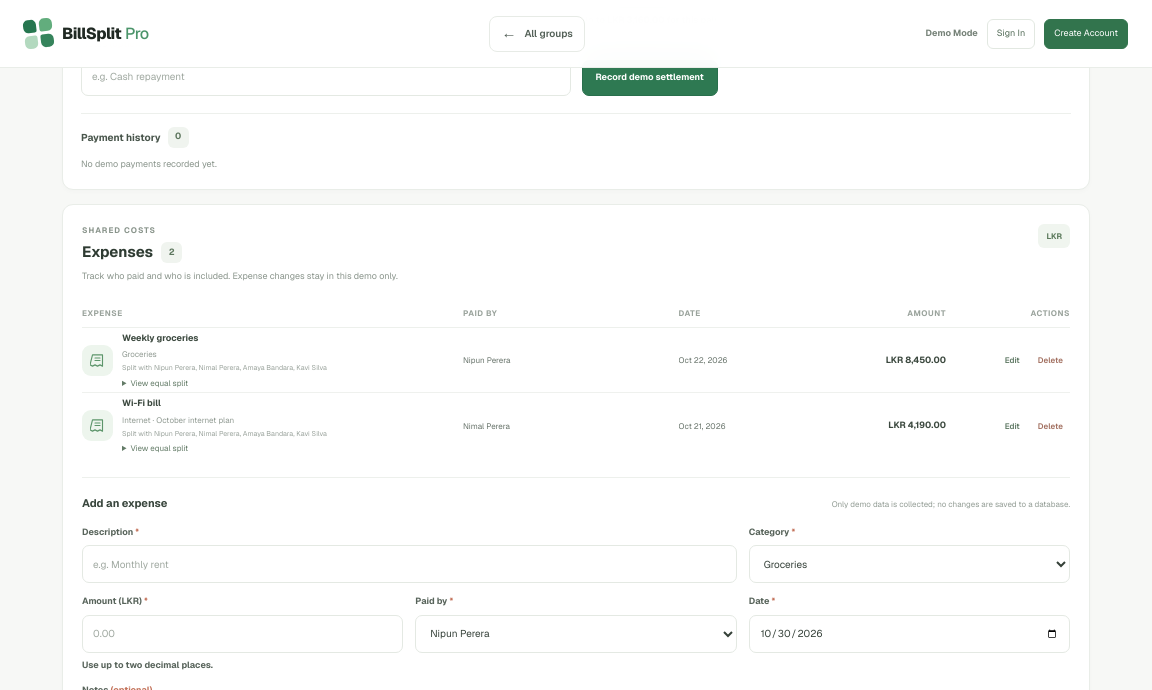
Test: group management screens › edits and confirms deletion of an expense
This screenshot has width=1152, height=690.
(page scrolled)
Click the button with aria-label "Edit Weekly groceries": (1012,360) 998,346 -> 1027,375
(page scrolled)
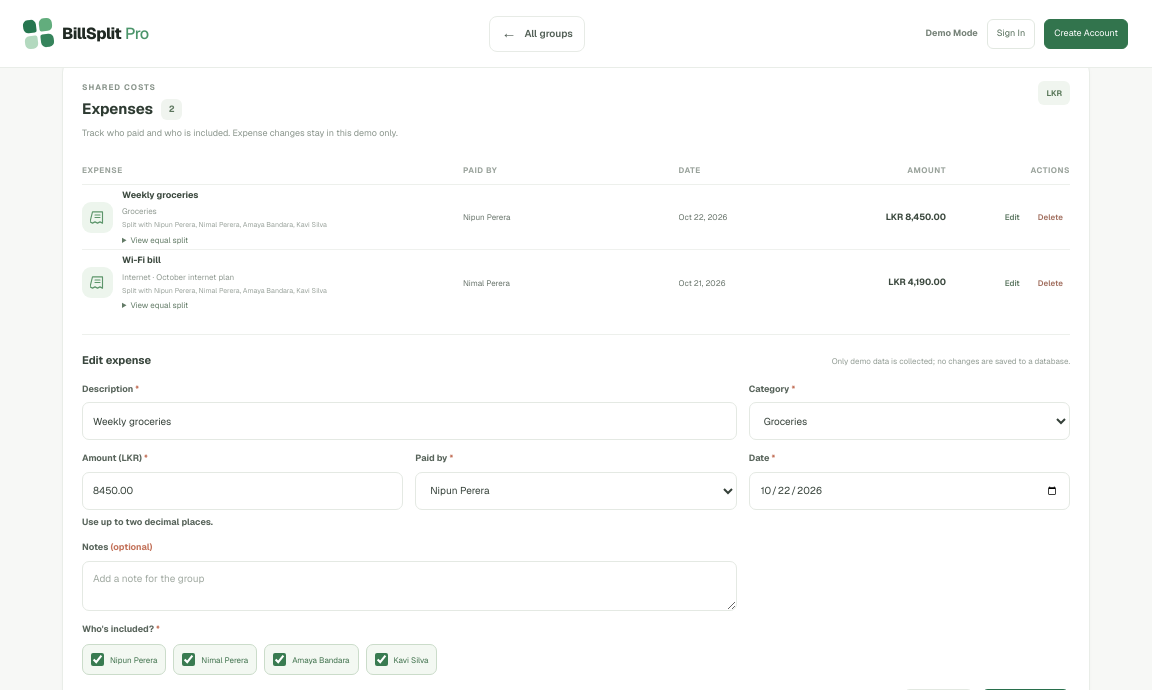
Replace the text in the field labelled "Amount (LKR) * Use up to two decimal places." with "9999.99": (243,491) 82,472 -> 403,510
(page scrolled)
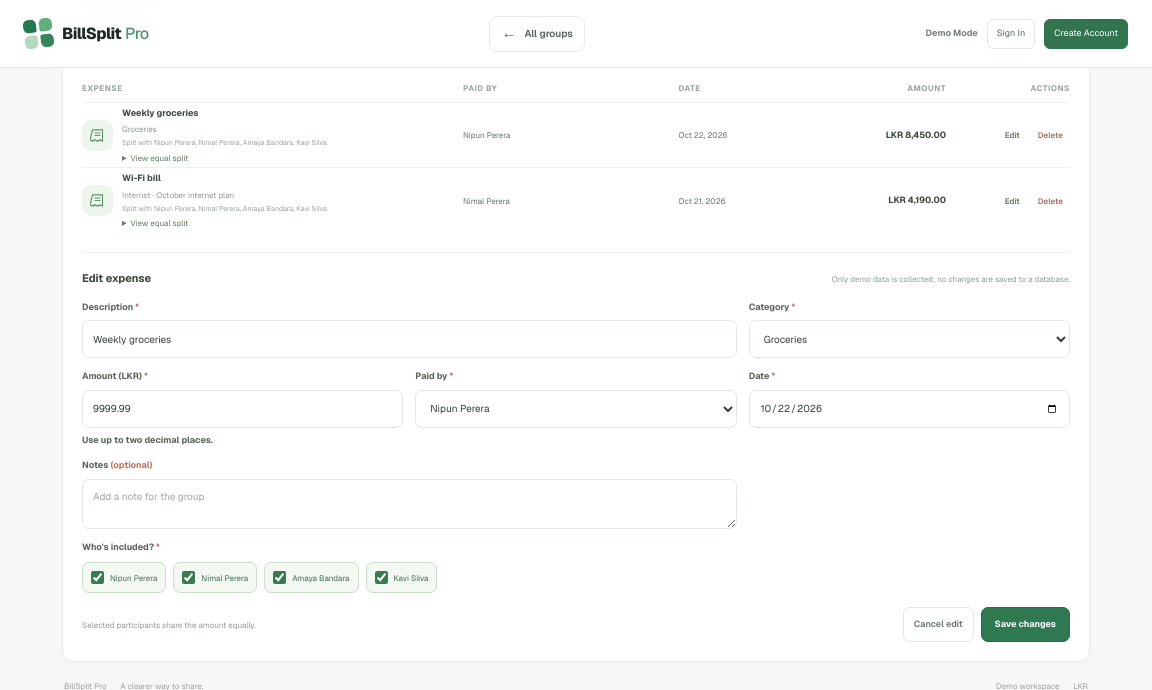
Click the button "Save changes": (1025,625) 981,607 -> 1070,642
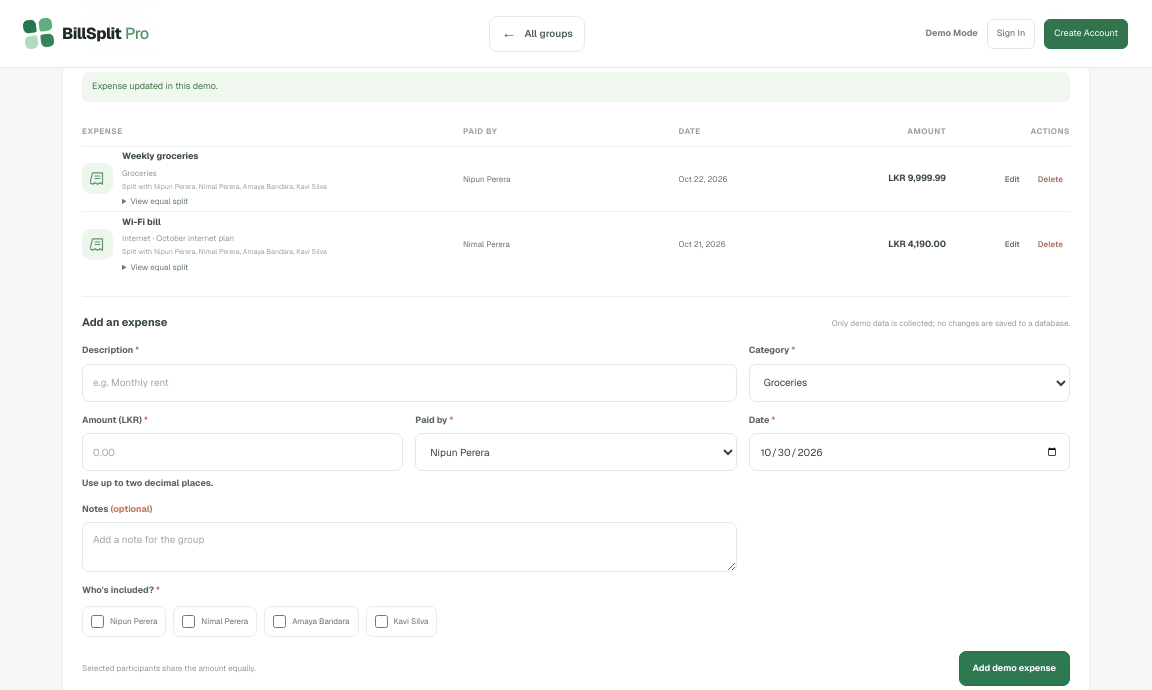
Now the text "LKR 9,999.99" is shown, box 888,172 -> 946,184
Now the message shows "Expense updated", box 92,80 -> 218,92
Click the button with aria-label "Delete Wi-Fi bill": (1050,244) 1031,230 -> 1070,259
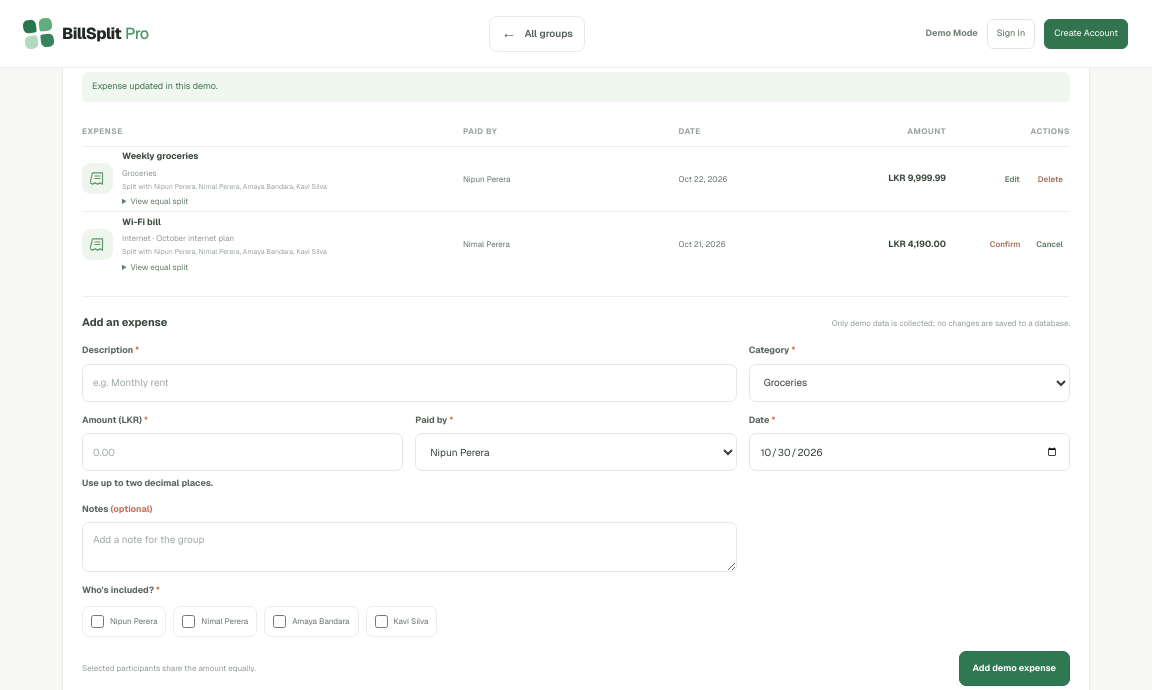
Now the element named "Confirm removing Wi-Fi bill" is shown, box 983,230 -> 1070,259
Click the button "Confirm": (1005,244) 983,230 -> 1027,259
(page scrolled)
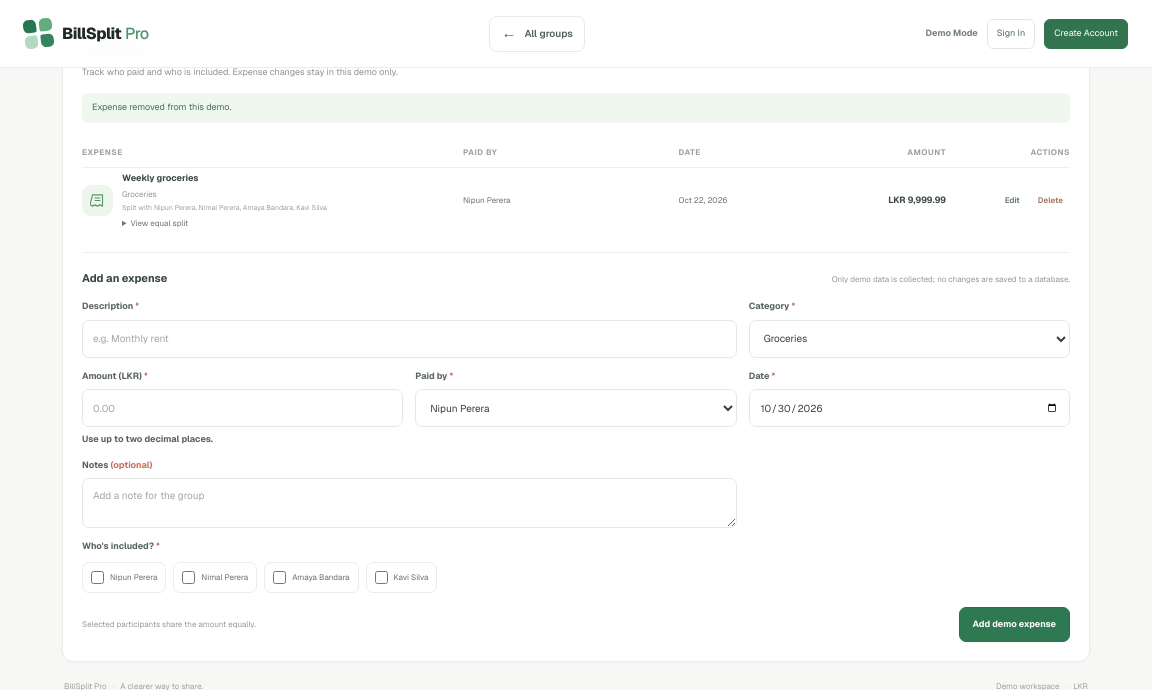
Now the text "Wi-Fi bill" is gone
Now the message shows "Expense removed", box 92,101 -> 231,113
